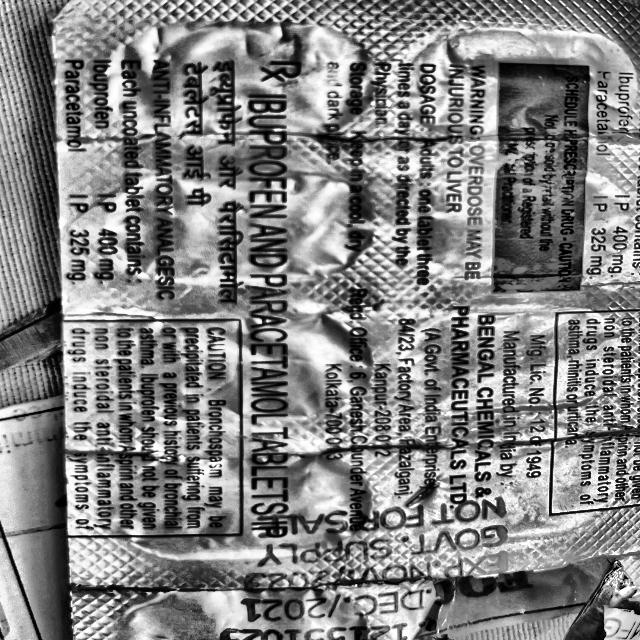IBUPROFEN AND PARACETAMOL TABLETS: (238, 89, 302, 520)
